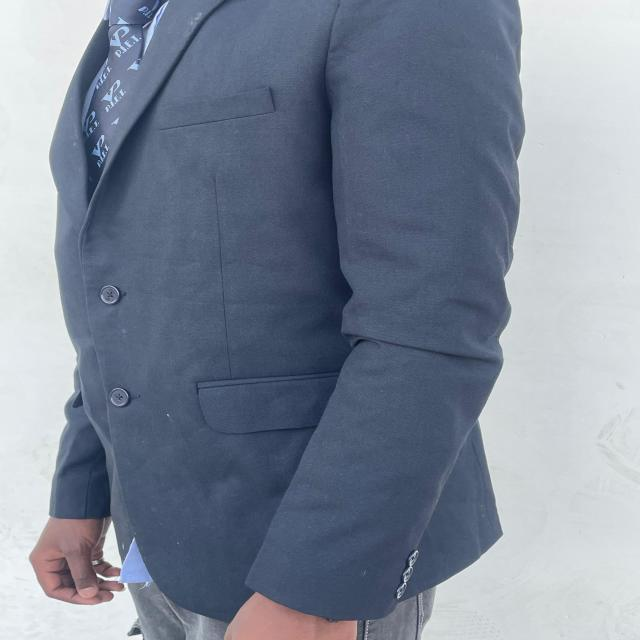Tie: (80, 0, 167, 203)
uniform: (45, 1, 525, 637)
